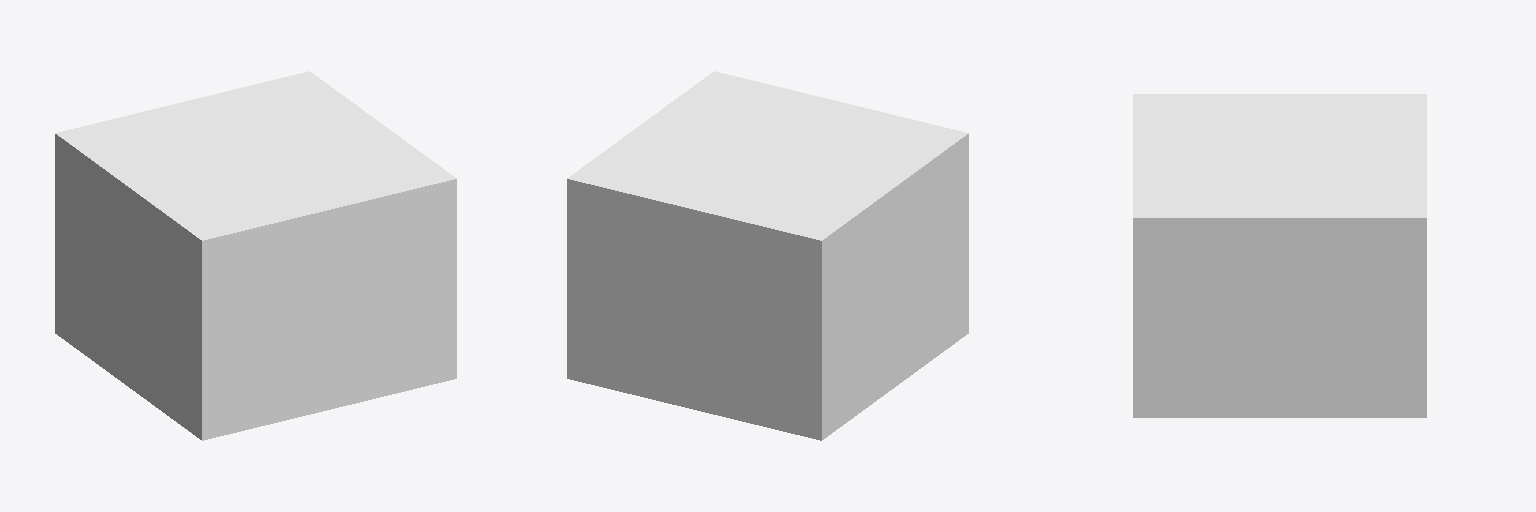
The model's file is cubito_sand_base.obj.
3 views of the same model, side by side, from view 1: azimuth 30°, elevation 25°; view 2: azimuth 150°, elevation 25°; view 3: azimuth 270°, elevation 25° (orthographic).
Visible parts, largest first — view 1: object 1; view 2: object 1; view 3: object 1.
Part boxes in pixels (left/top/right/bottom): object 1: left=55, top=71, right=456, bottom=440; object 1: left=567, top=71, right=968, bottom=440; object 1: left=1133, top=94, right=1426, bottom=417.
Size of the model in its own units: 4 by 3 by 4.